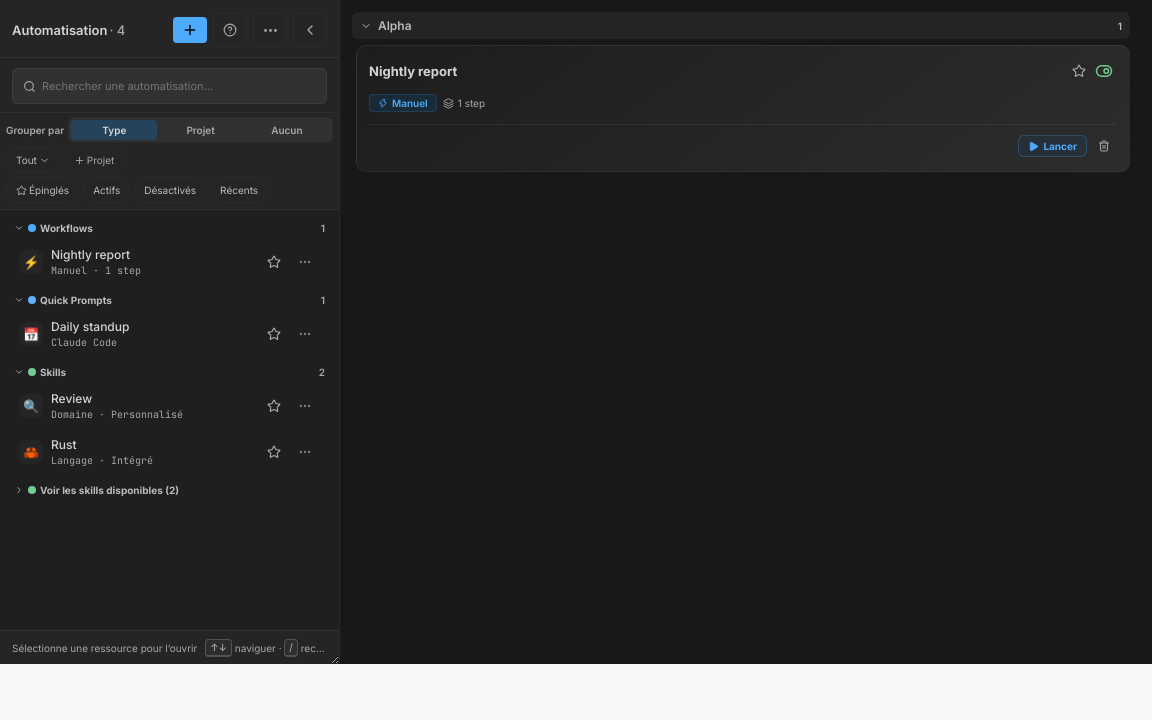
Scenario: WorkflowsPage — skills (KT-914) › offers a row menu delete for a skill the user wrote, not for a built-in one
This screenshot has width=1152, height=720.
Click the button named "Plus d’actions · Rust". click: {"x": 305, "y": 452}
box: 291,438 -> 319,466
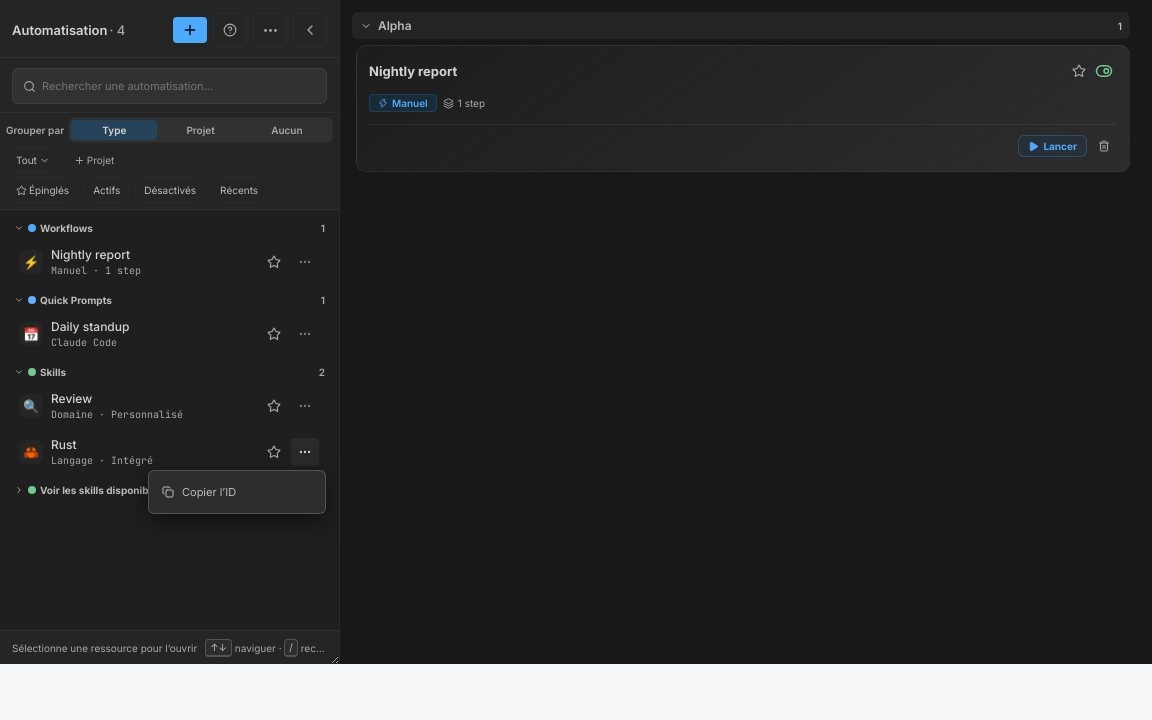
Expected: the menu item "Supprimer" is not shown
Press Escape
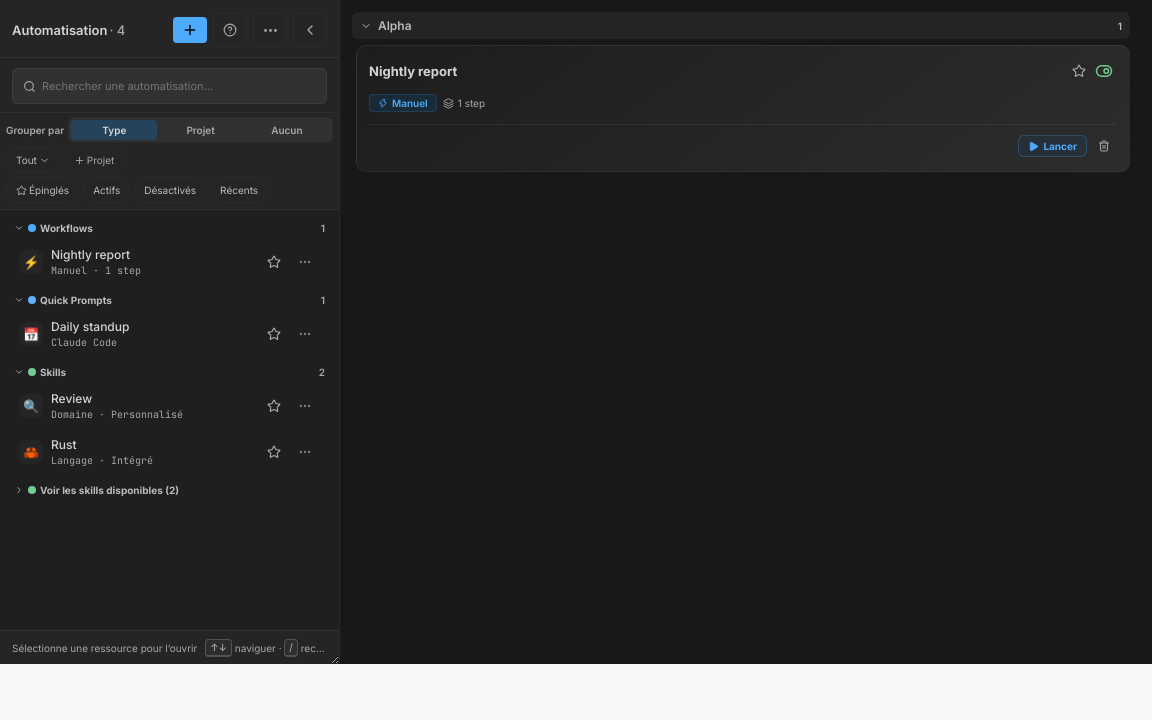
Click the button named "Plus d’actions · Review". click: {"x": 305, "y": 406}
box: 291,392 -> 319,420
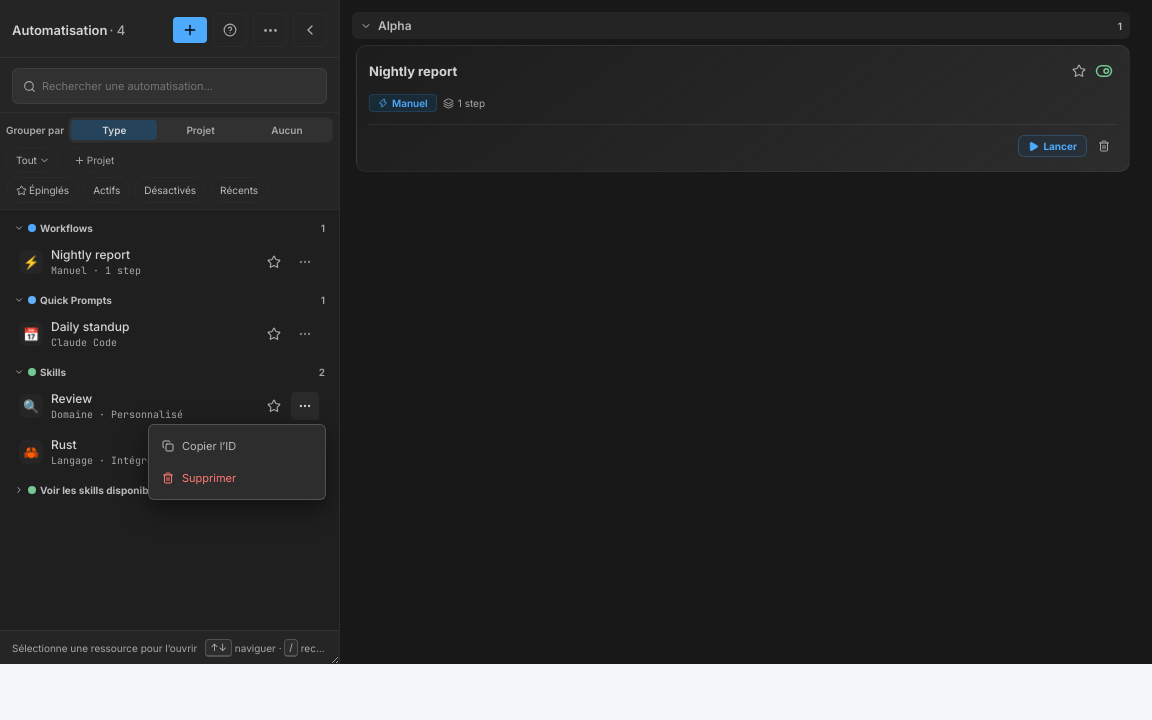
Result: the menu item "Supprimer" is shown at 154,462 -> 320,494
